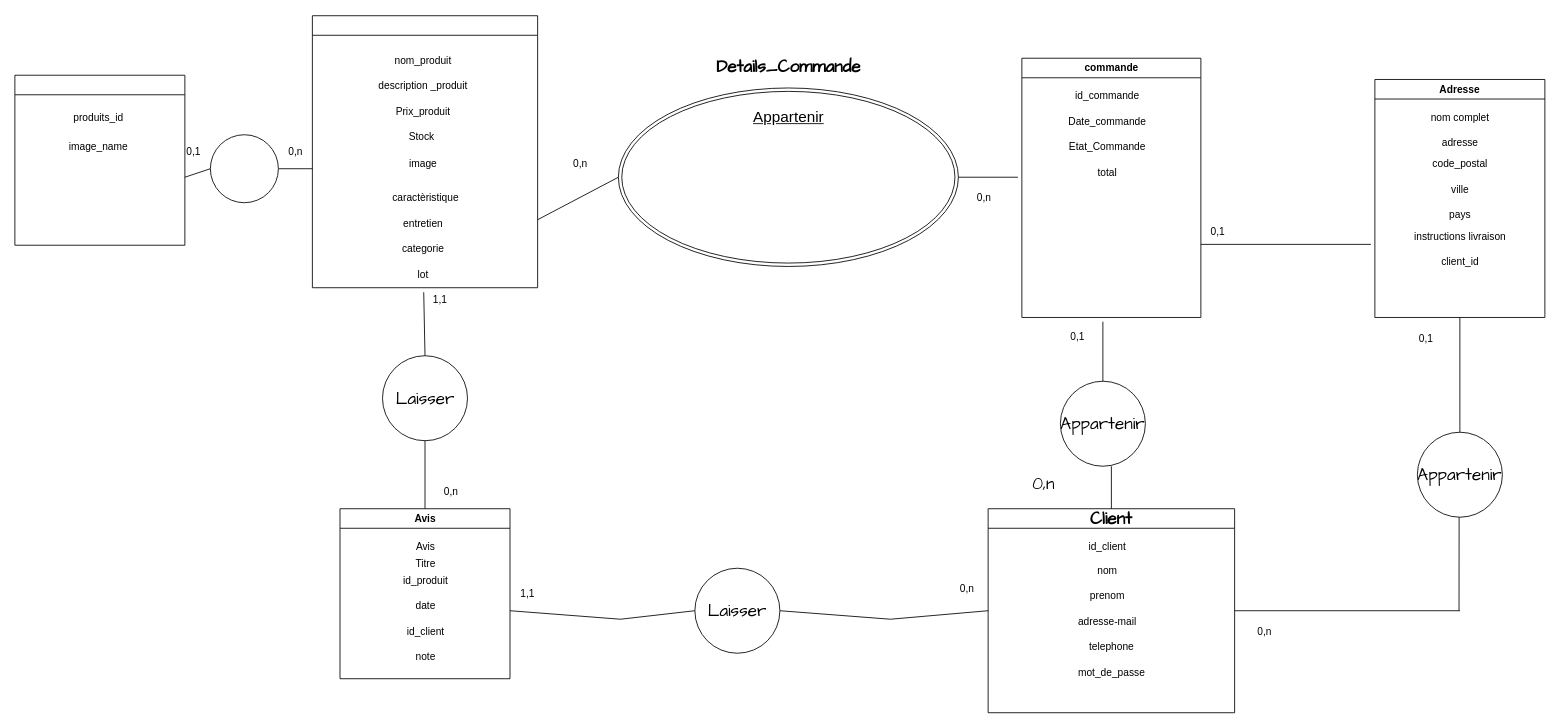
The diagram is 1560 pixels wide and 728 high, and some of its shapes have lost their labels. The box of each missing label's shape, as (x1, y1, x2, y2) in pixels:
images: (14, 74, 185, 245)
Plante_id Commande_id quantite: (618, 87, 958, 266)
posseder / appartenir: (210, 134, 278, 203)
Produits: (312, 15, 538, 288)
